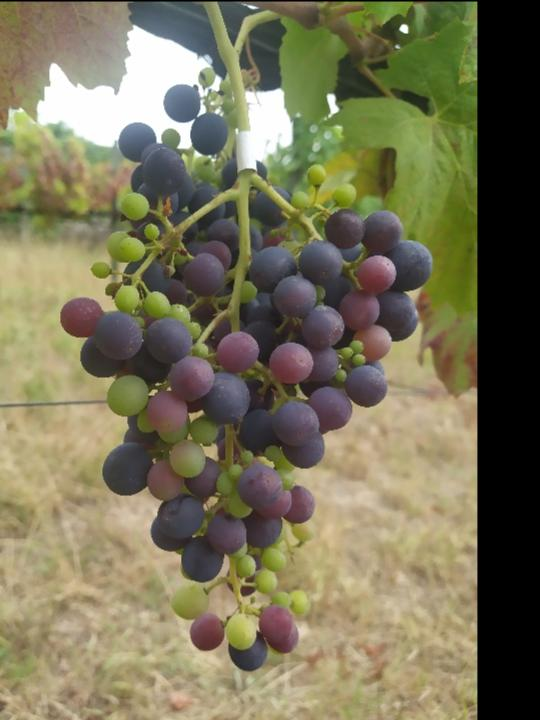grape: (59, 67, 435, 675)
